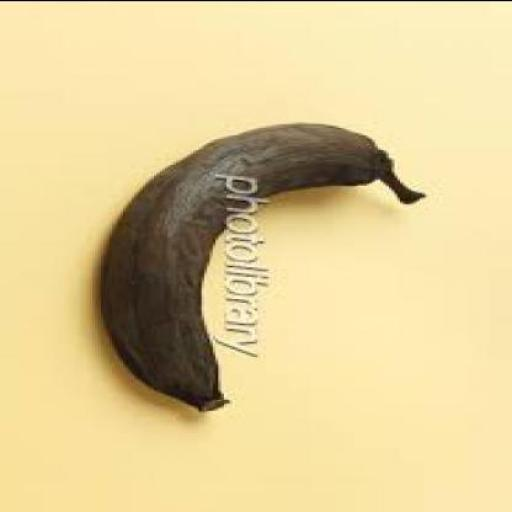biodegradable: (101, 121, 428, 408)
